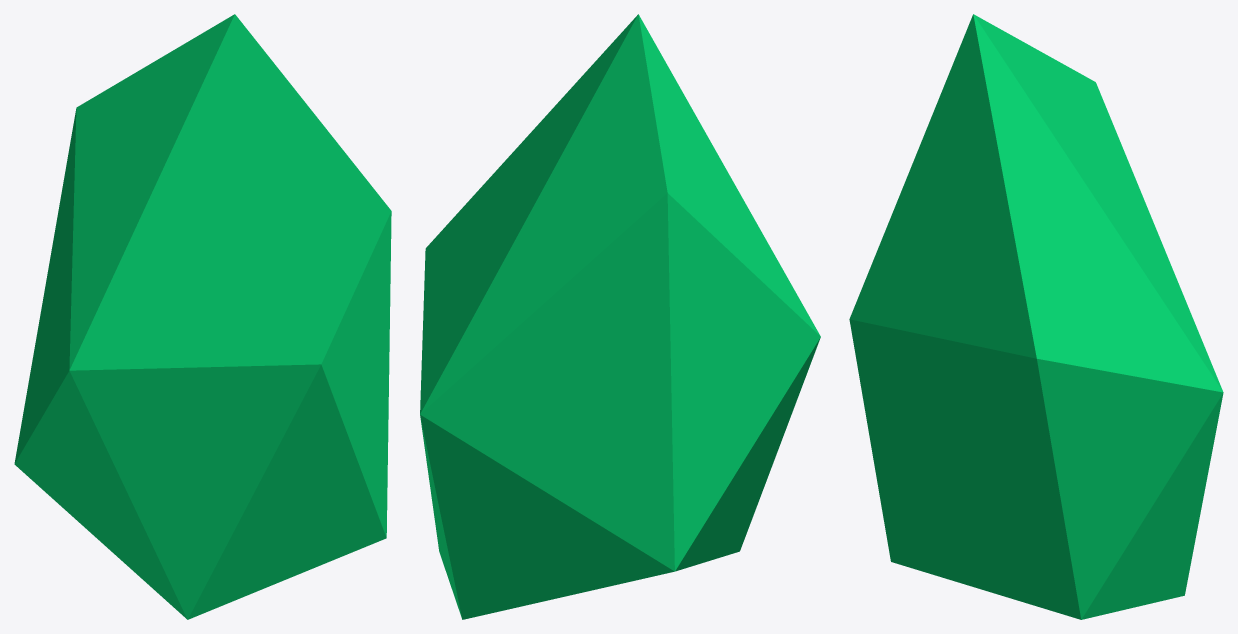
Rendered from crystal_cave.dae.
The picture shows the model from 3 angles, left to right: view 1: azimuth 30°, elevation 25°; view 2: azimuth 150°, elevation 25°; view 3: azimuth 270°, elevation 25°; orthographic projection. The views are drawn at different scales.
Parts seen in each view (by area): view 1: Icosphere; view 2: Icosphere; view 3: Icosphere.
Part boxes in pixels (x1,y1,x2,y2): Icosphere: [14, 14, 391, 619]; Icosphere: [420, 14, 820, 619]; Icosphere: [849, 14, 1223, 619].
Size of the model in its own units: 1.04 by 0.9577 by 1.55.
